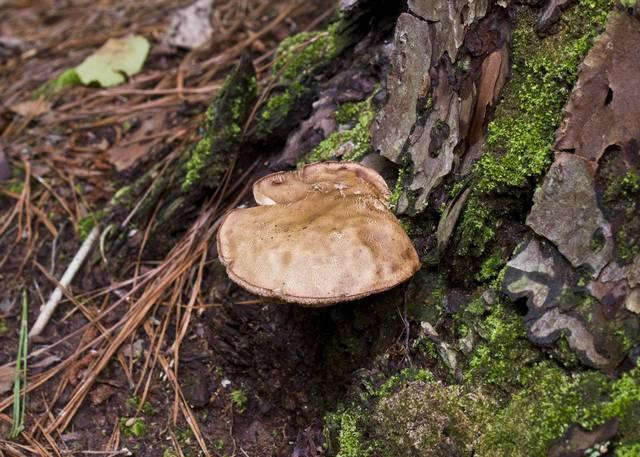Non-edible Mushroom: (215, 160, 421, 308)
